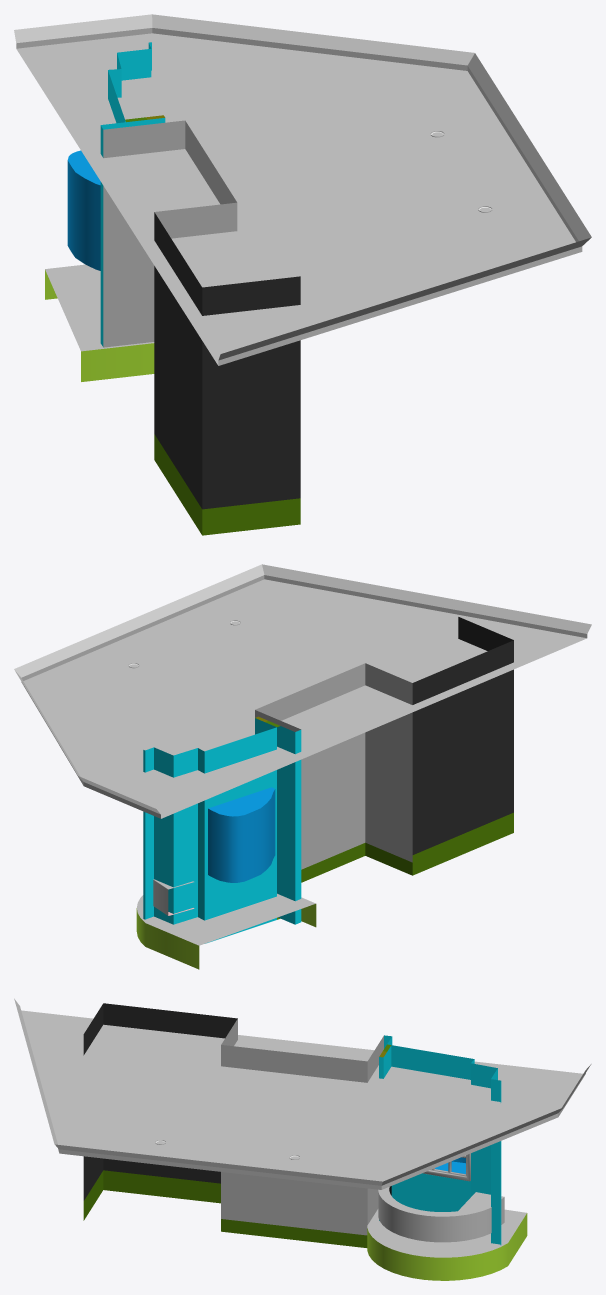
File: Studio C Alpha.fbx
3 renders of one model, top to bottom at view 1: azimuth 30°, elevation 25°; view 2: azimuth 150°, elevation 25°; view 3: azimuth 270°, elevation 25°, orthographic. The views are drawn at different scales.
Visible parts, largest first — view 1: Circle.028; view 2: Circle.028; view 3: Circle.028.
Part boxes in pixels (x1,y1,x2,y2): Circle.028: (14,14,591,535); Circle.028: (14,564,591,969); Circle.028: (14,998,591,1280).
Bounding box in the file's own units: 553 × 263 × 736.
